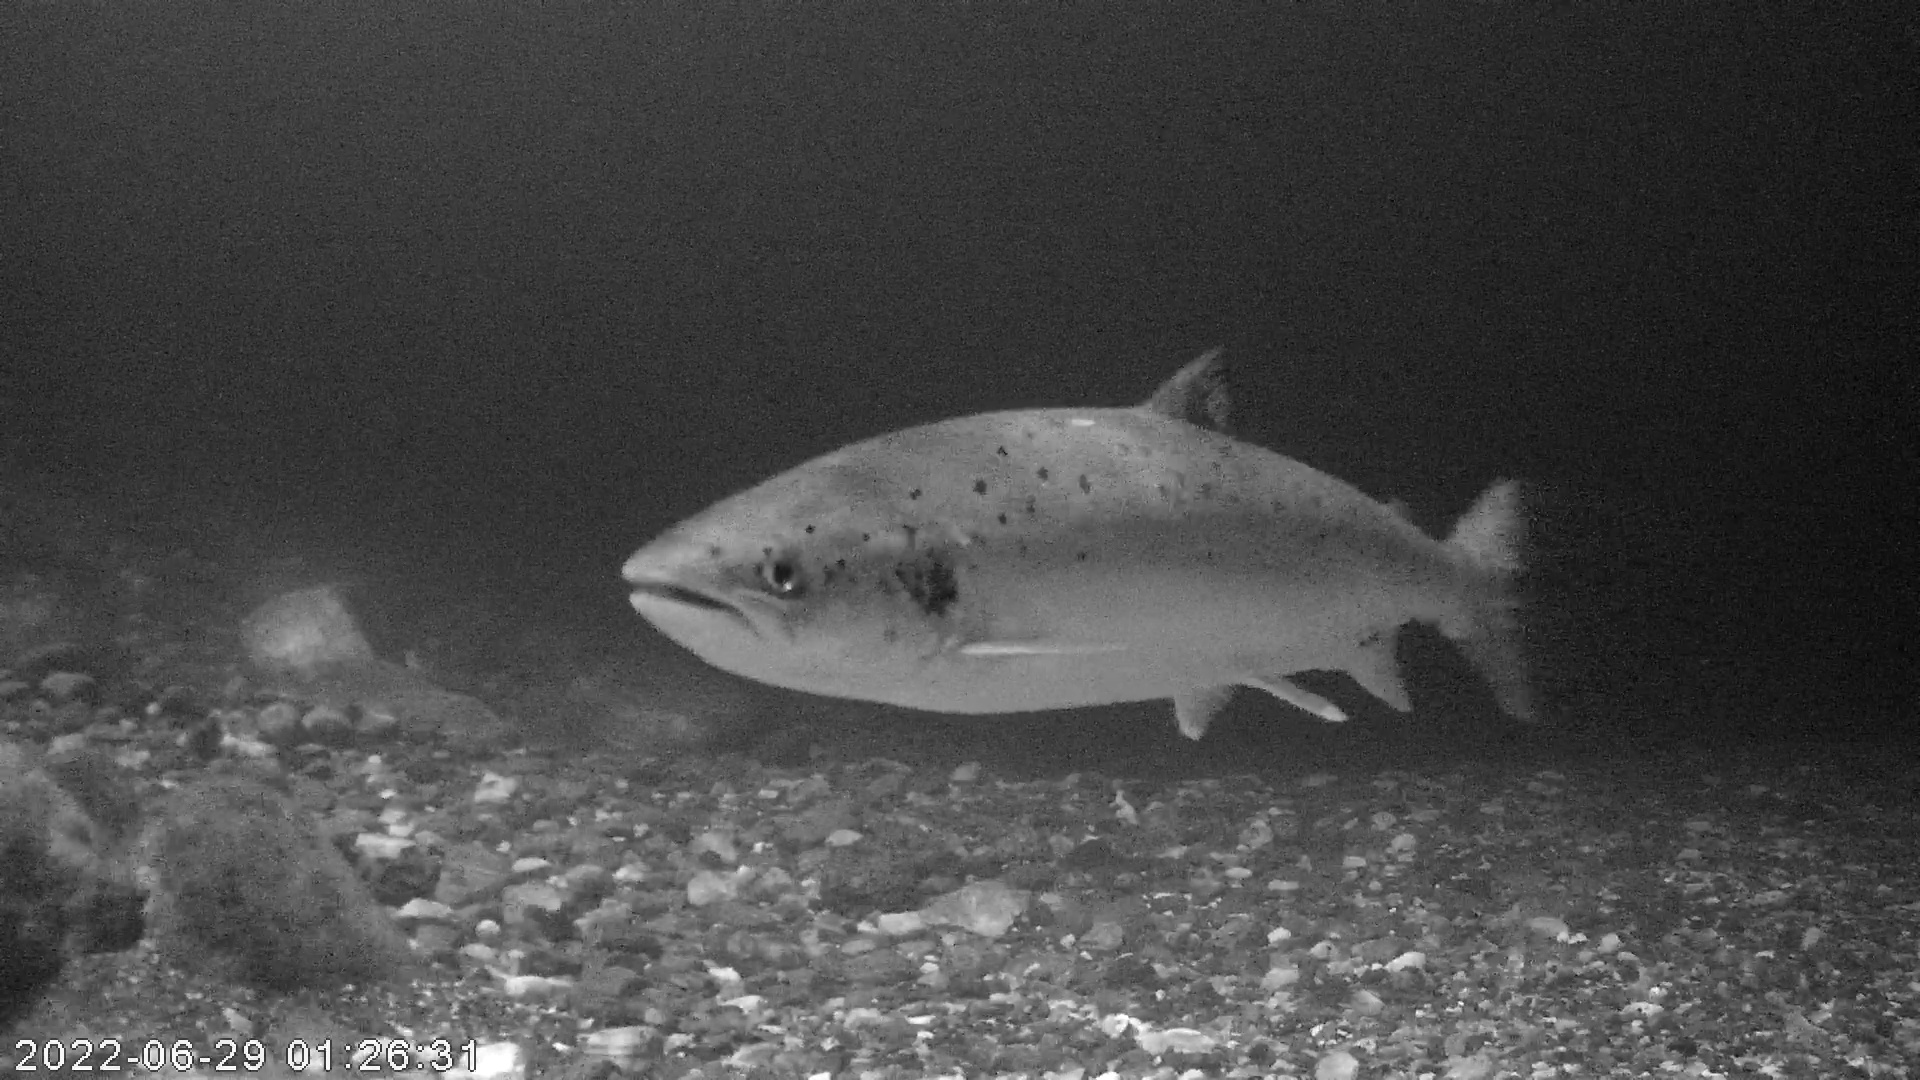salmon: (615, 297, 1530, 749)
